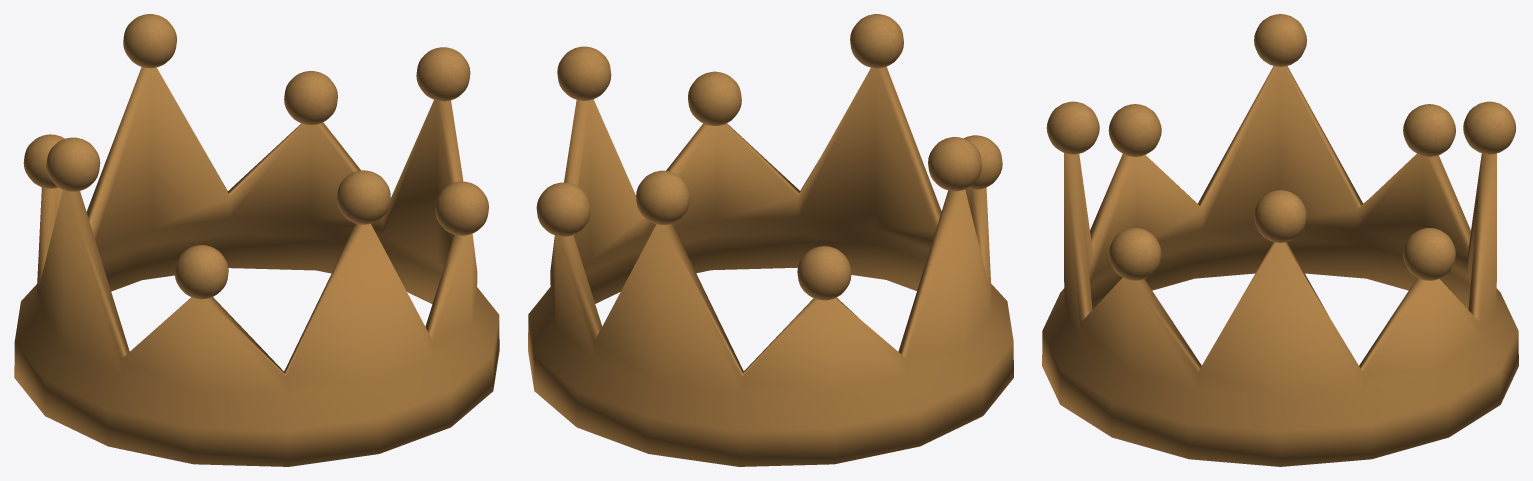
File: Crown.fbx
The picture shows the model from 3 angles, left to right: view 1: azimuth 30°, elevation 25°; view 2: azimuth 150°, elevation 25°; view 3: azimuth 270°, elevation 25°; orthographic projection. The views are drawn at different scales.
Parts seen in each view (by area): view 1: Circle, Sphere; view 2: Circle, Sphere; view 3: Circle, Sphere.
Boxes of the visible parts, x1=… form: Circle: x1=14, y1=67, x2=499, y2=466; Sphere: x1=23, y1=14, x2=488, y2=299; Circle: x1=528, y1=66, x2=1013, y2=466; Sphere: x1=536, y1=14, x2=1002, y2=300; Circle: x1=1042, y1=66, x2=1518, y2=466; Sphere: x1=1046, y1=14, x2=1515, y2=280.
Size of the model in its own units: 459 by 278 by 459.
